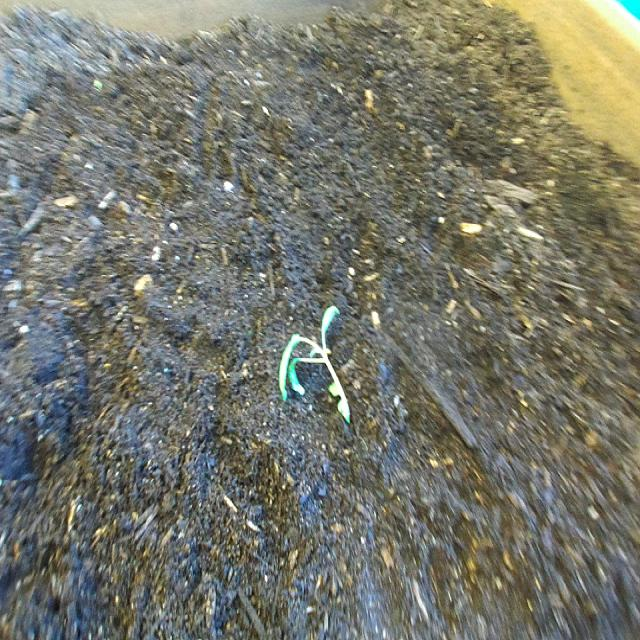Healthy: (275, 300, 355, 430)
